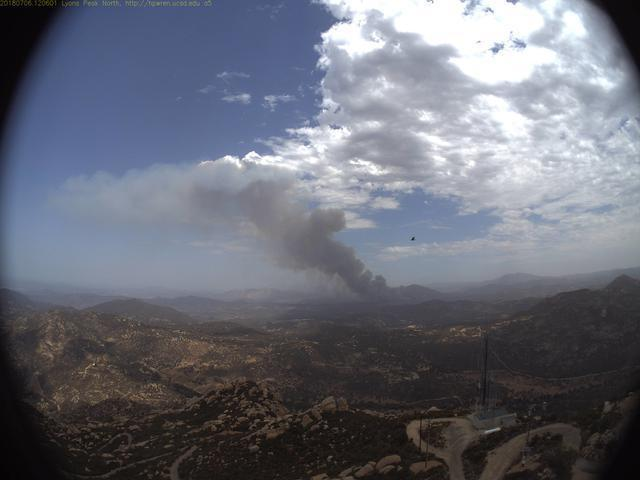Smoke: (123, 163, 416, 325)
